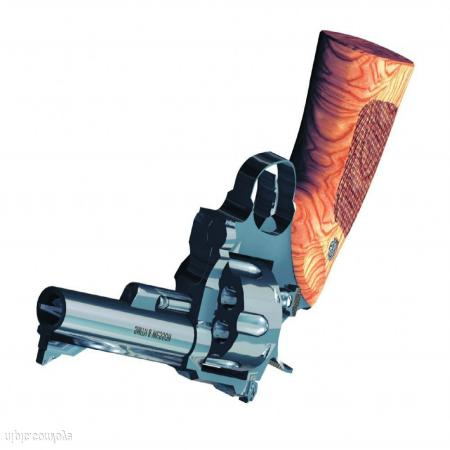Pistol: (32, 27, 410, 404)
